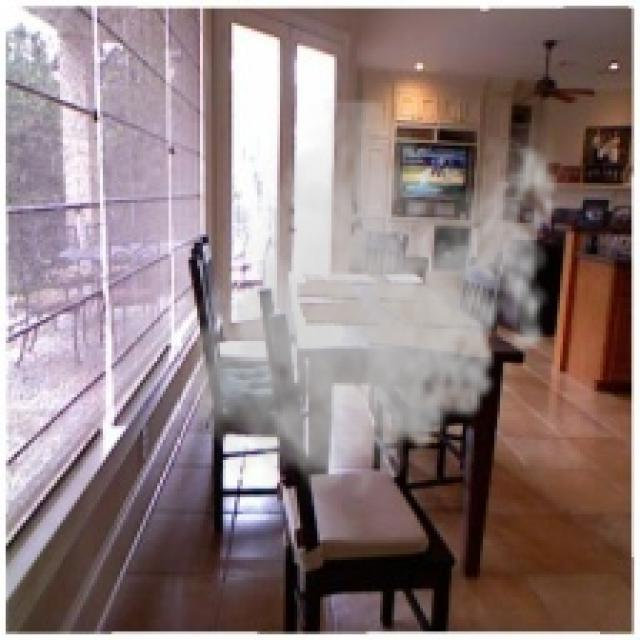smoke: (183, 97, 571, 506)
